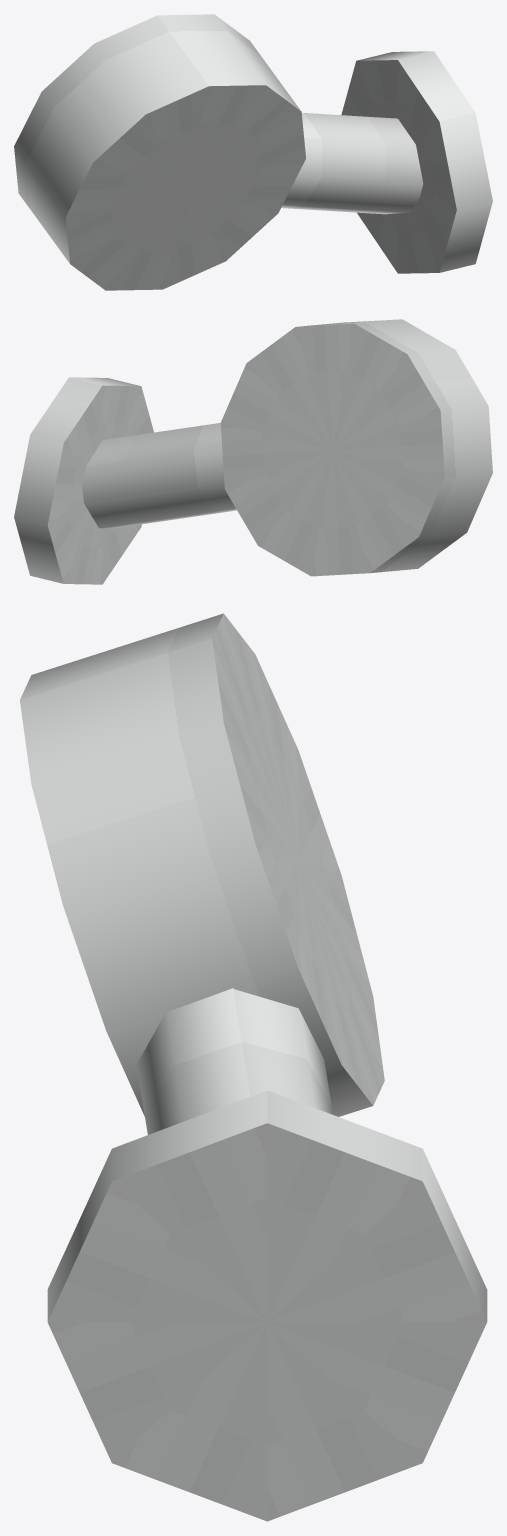
Rendered from nycsignalarm_stub_1.obj.
The picture shows the model from 3 angles, top to bottom: view 1: azimuth 30°, elevation 25°; view 2: azimuth 150°, elevation 25°; view 3: azimuth 270°, elevation 25°; orthographic projection. The views are drawn at different scales.
Parts seen in each view (by area): view 1: nycsignalarm_stub_1; view 2: nycsignalarm_stub_1; view 3: nycsignalarm_stub_1.
Boxes of the visible parts, x1,y1,x2,y2 form: nycsignalarm_stub_1: (14,14,492,290); nycsignalarm_stub_1: (14,319,492,584); nycsignalarm_stub_1: (20,613,487,1521).
Size of the model in its own units: 0.7055 by 0.5429 by 0.3721.
